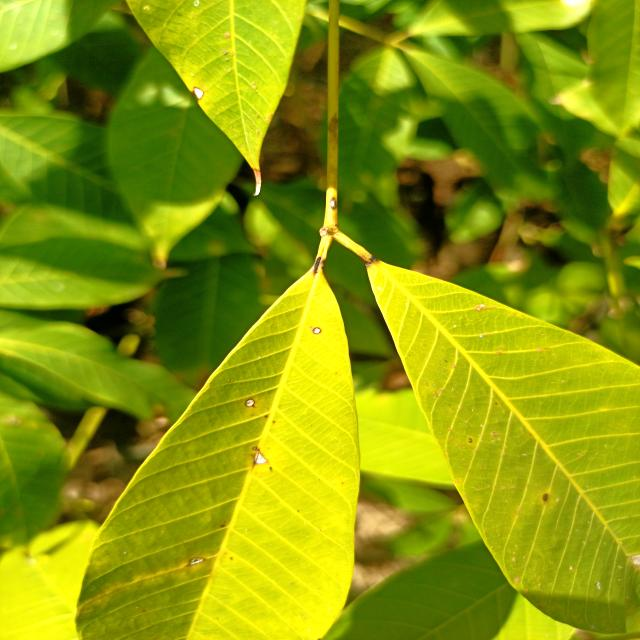Colletotrichum: (245, 398, 255, 407), (313, 327, 321, 334), (252, 446, 258, 449)
Leaf-Blight: (631, 553, 640, 568)
